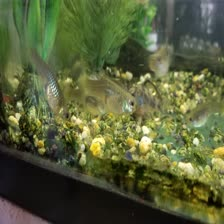Guppy: (27, 45, 71, 122), (77, 67, 137, 115), (182, 92, 223, 131), (145, 39, 180, 81)
